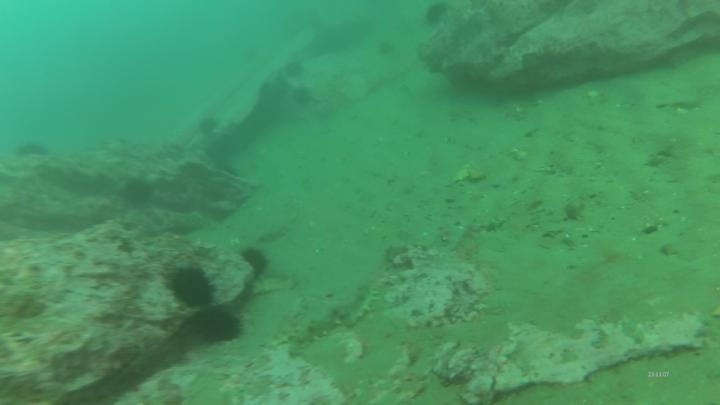echinus: (163, 261, 221, 312), (193, 302, 249, 347), (239, 244, 276, 274)
holothurian: (325, 280, 382, 333), (243, 274, 302, 294)
